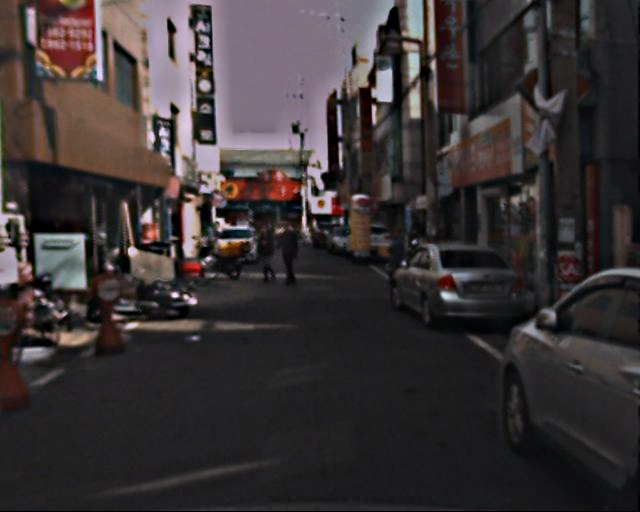person: (277, 214, 305, 290), (383, 221, 410, 298), (257, 216, 281, 281)
